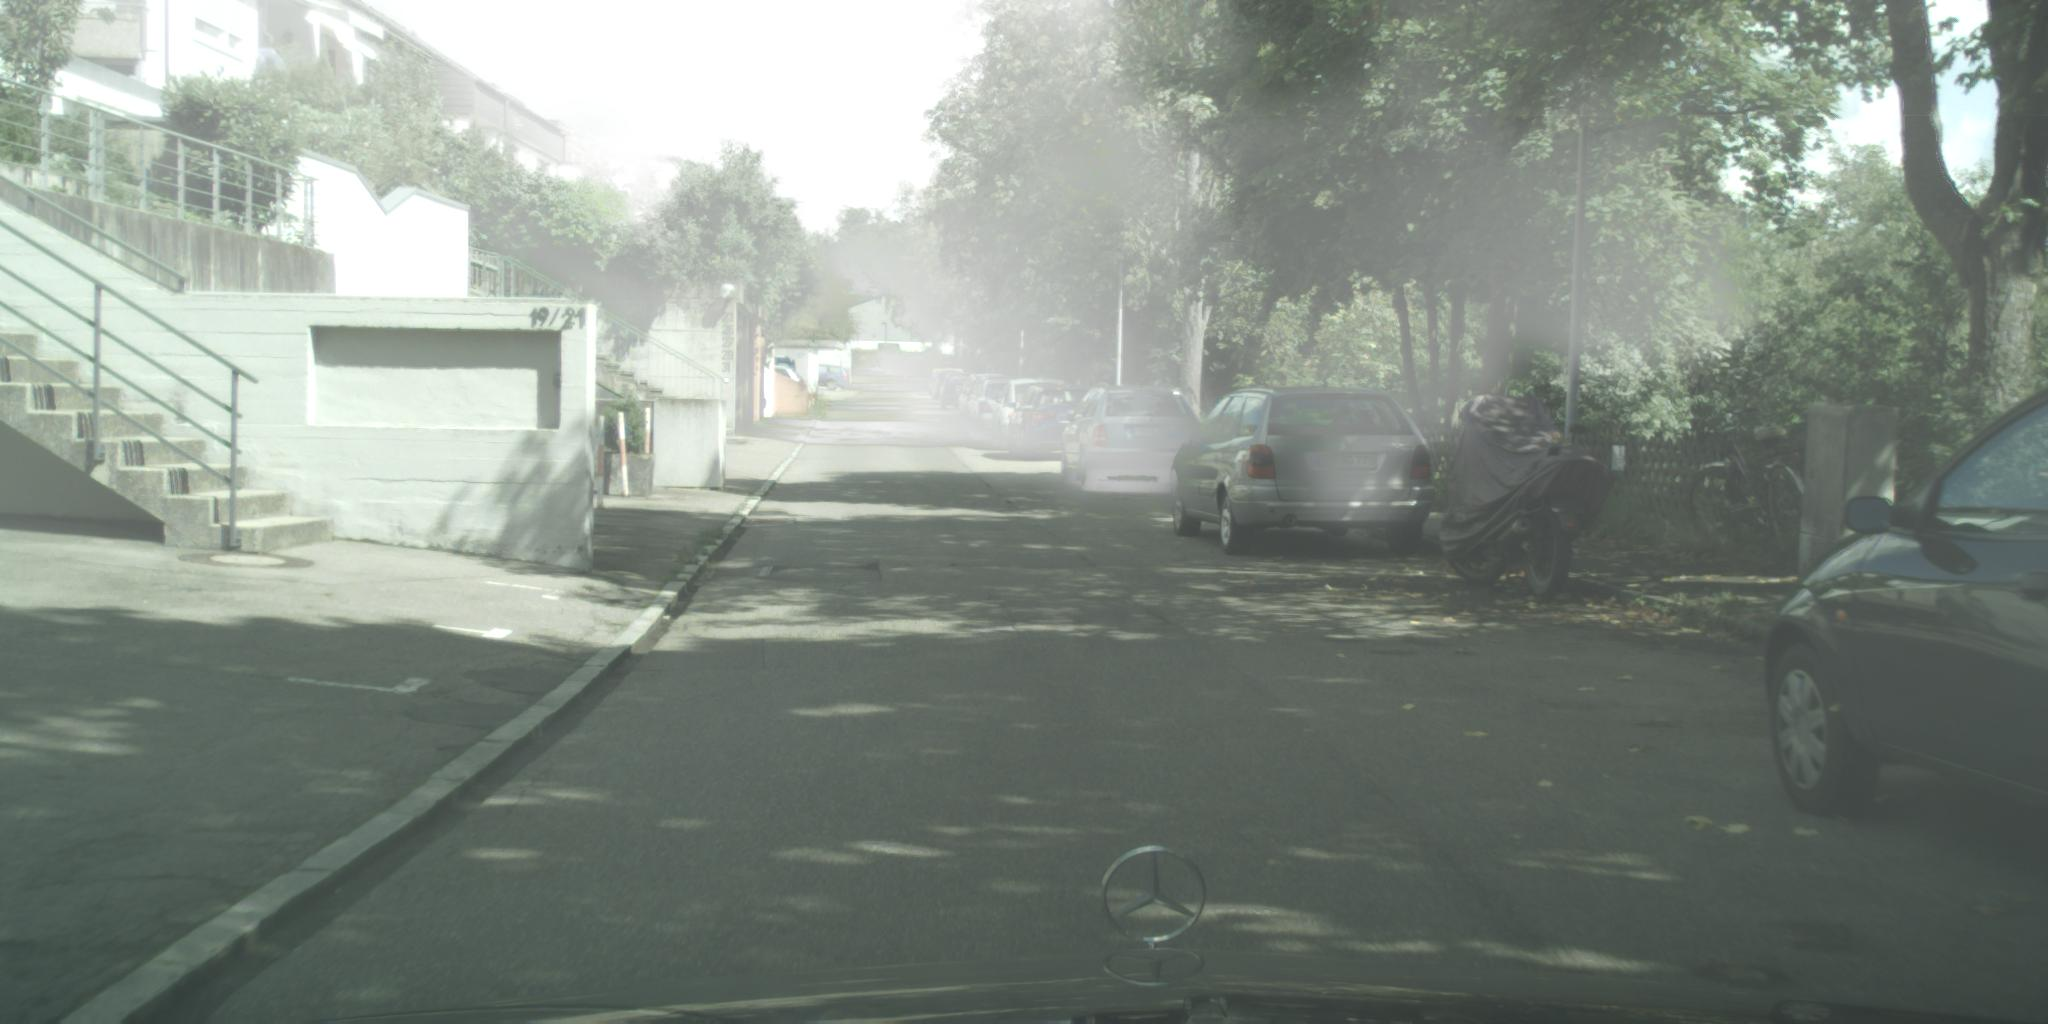bicycle: (1688, 409, 1810, 552)
car: (1766, 388, 2048, 819), (1172, 388, 1437, 556), (1061, 383, 1202, 492), (1010, 384, 1096, 462), (993, 379, 1067, 451), (969, 379, 1025, 441), (956, 375, 1008, 430), (940, 375, 976, 411), (927, 370, 964, 397), (775, 359, 806, 388), (931, 374, 963, 401), (818, 364, 849, 392)
motorcycle: (1439, 394, 1614, 600)
